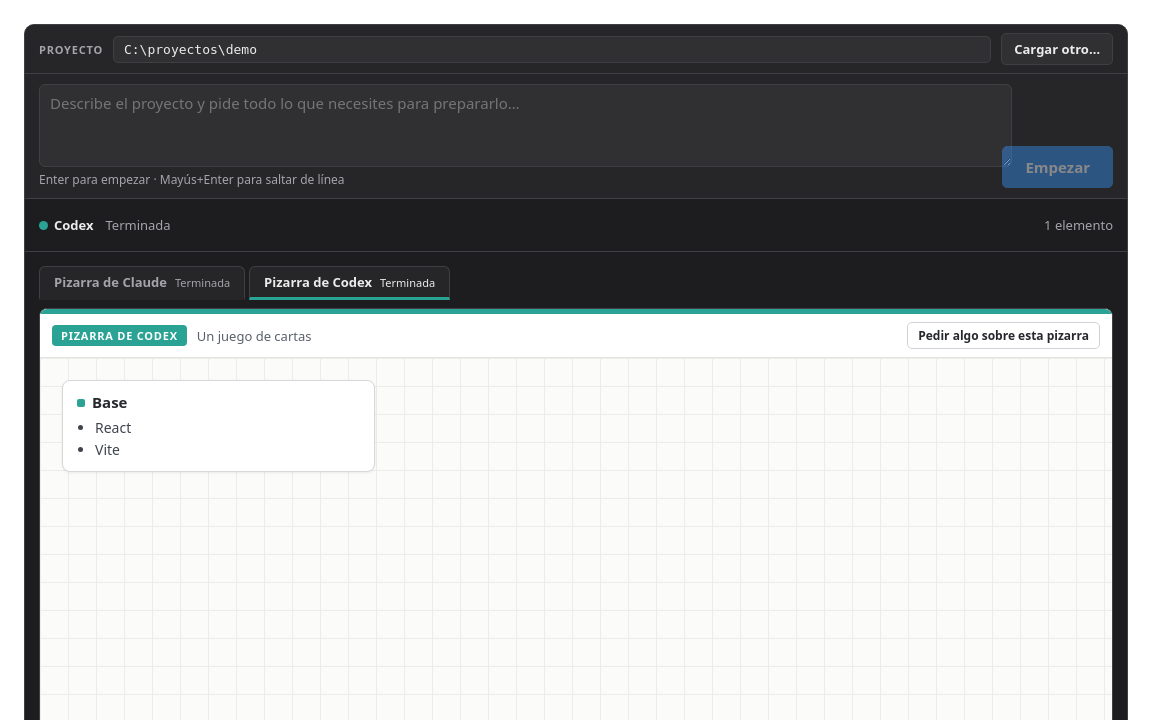
it: shows the project folder, the latest board and the timeline
expect the text "C:\\proyectos\\demo" is shown: met, box top-left (113, 36), bottom-right (991, 62)
expect the heading "Base" is shown: met, box top-left (92, 392), bottom-right (128, 412)
Click the tab "Pizarra de Claude Terminada" at (142, 283), box top-left (39, 266), bottom-right (245, 300)
(page scrolled)
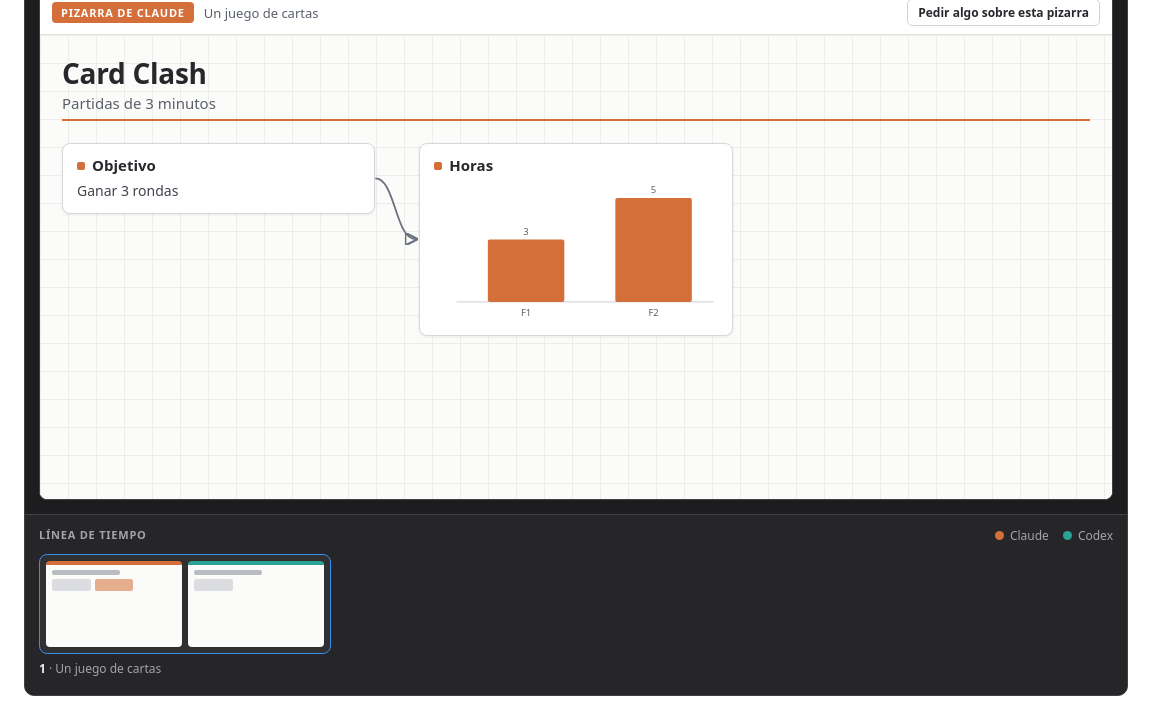
expect the text "1 · Un juego de cartas" is shown: met, box top-left (39, 660), bottom-right (161, 677)
expect the heading "Card Clash" is shown: met, box top-left (62, 54), bottom-right (207, 92)
expect the text "Ganar 3 rondas" is shown: met, box top-left (77, 181), bottom-right (178, 200)
